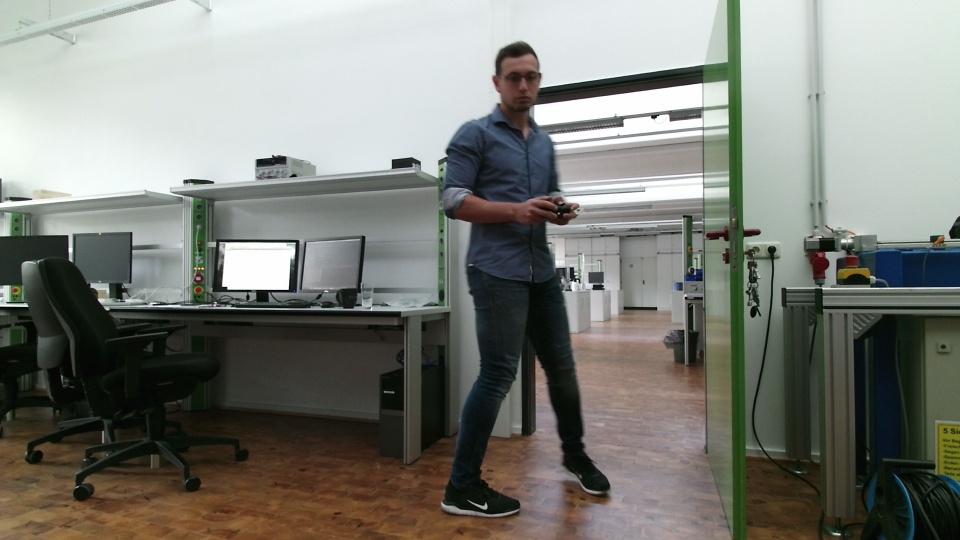Person: (418, 33, 624, 527)
